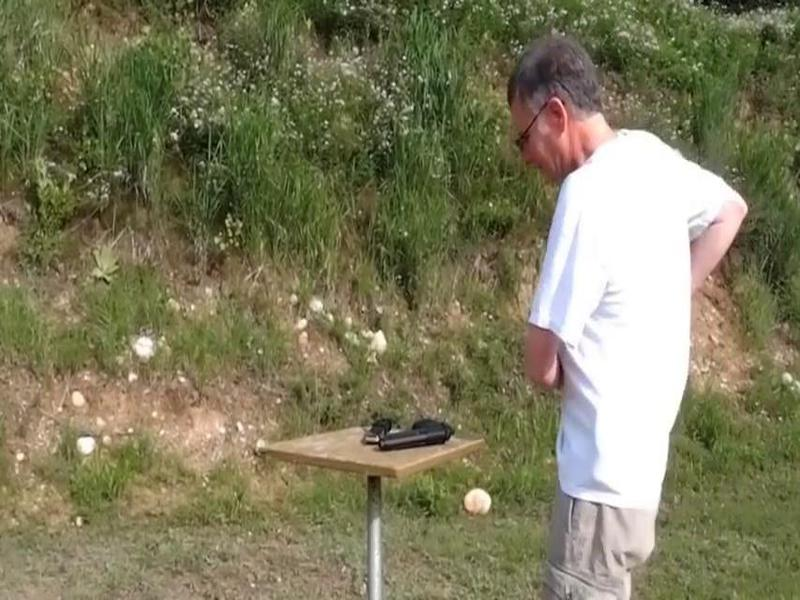Pistola: (365, 394, 486, 479)
